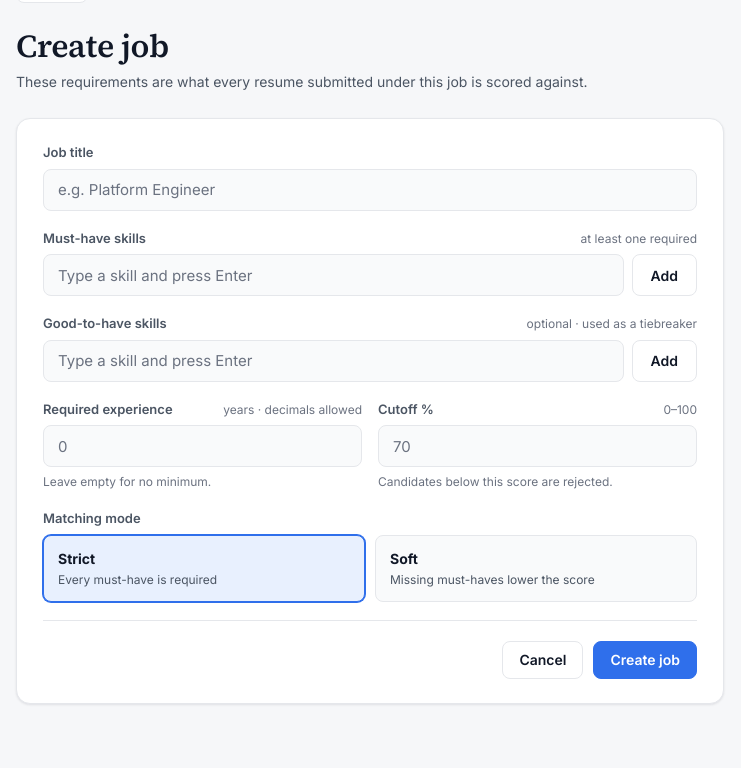
Test: Phase 6 - Create Job screen › empty form: every rule reports at once, and nothing is sent
(page scrolled)
Click the button "Create job": {"x": 645, "y": 660} [593, 641, 697, 679]
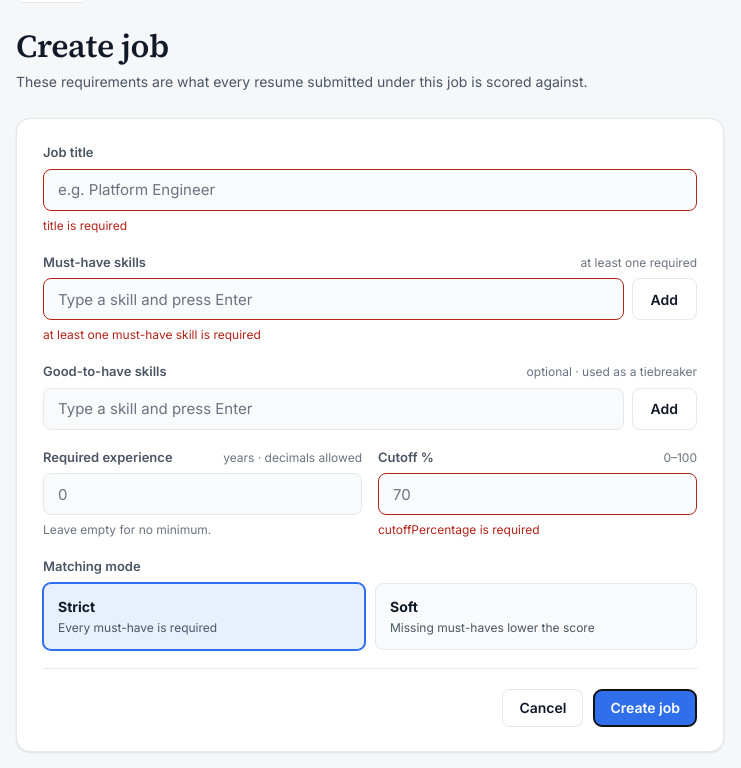
Expected: the text "title is required" is shown, [43, 218, 127, 233]
Expected: the text "at least one must-have skill is required" is shown, [43, 327, 261, 342]
Expected: the text "cutoffPercentage is required" is shown, [378, 522, 540, 537]
